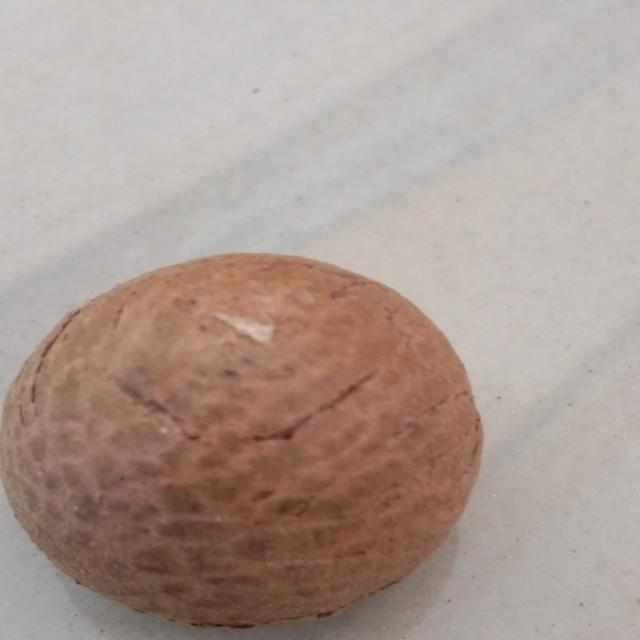phatora: (0, 238, 498, 640)
